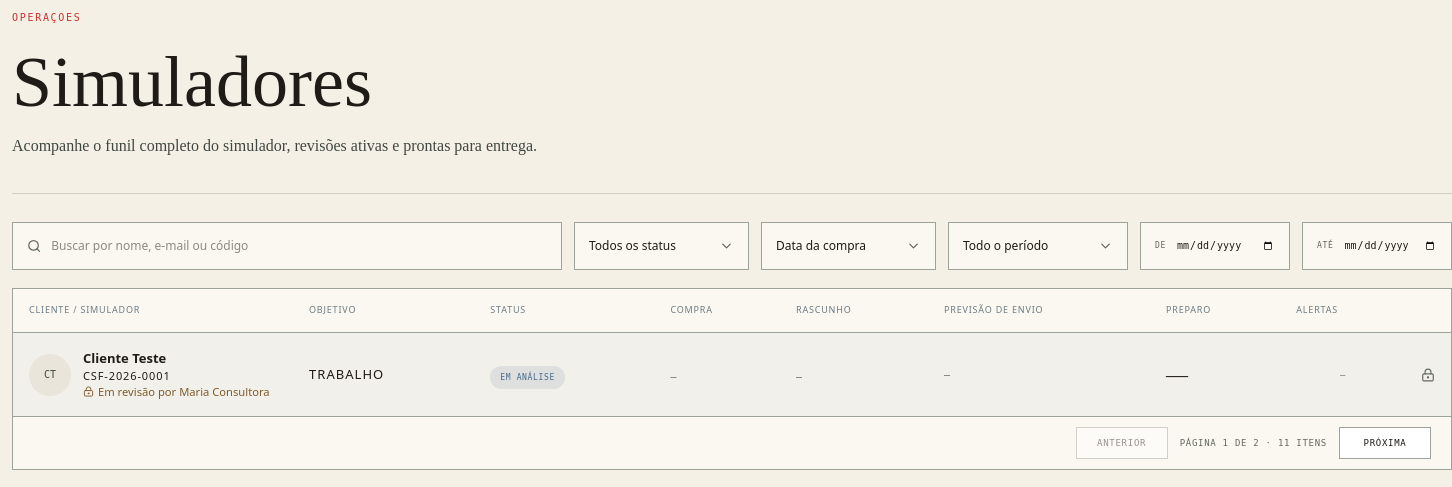
Test case: bloqueio de diagnóstico na lista › carrega a próxima página quando há mais resultados
expect the text "Cliente Teste" is shown: met, box [83,350,166,368]
Click the button "Próxima" at point(1385, 443), box [1339,427,1431,459]
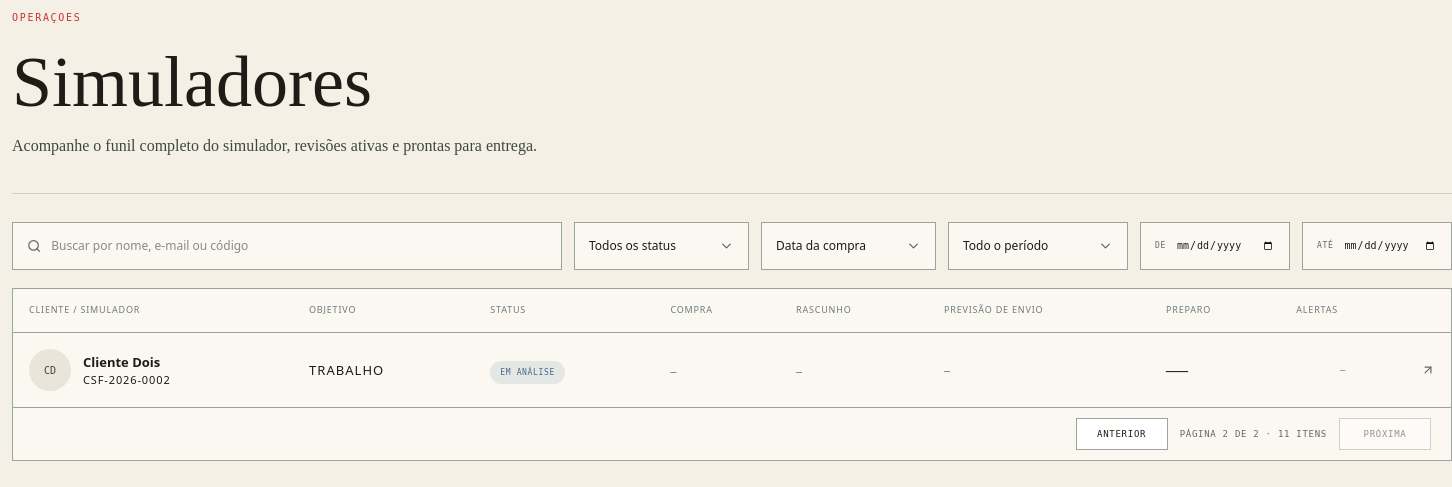
expect the text "Cliente Dois" is shown: met, box [83,353,171,372]
expect the text "Página 2 de 2 · 11 itens" is shown: met, box [1180,430,1327,440]
